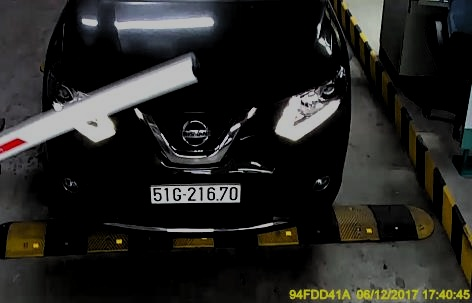plate: (145, 179, 242, 207)
